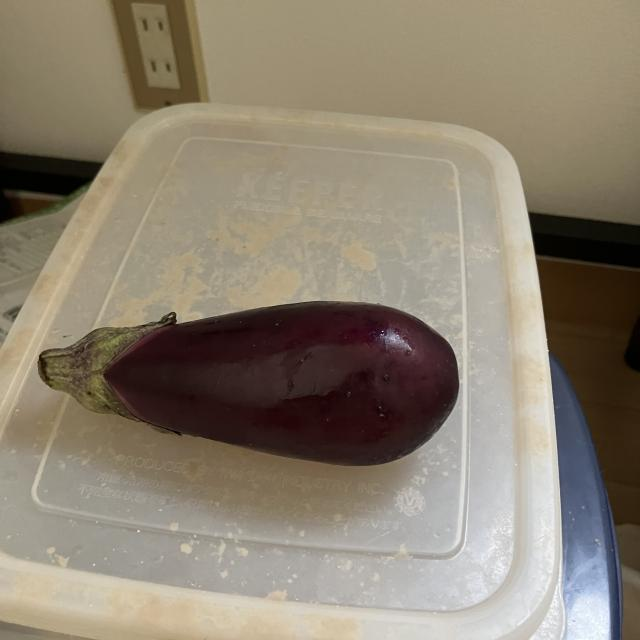eggplant: (37, 299, 462, 470)
